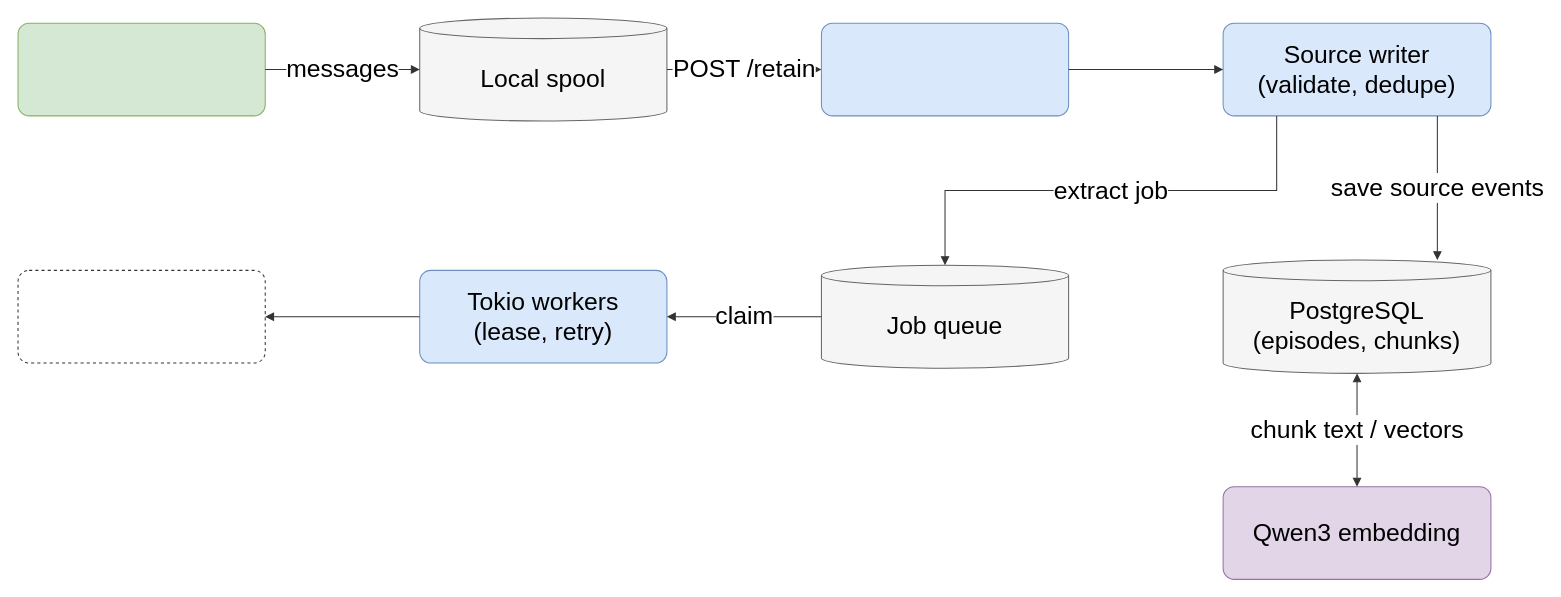
Some shapes in this 1561 by 597 pixel diagram are drawn without their labels. Here are the shapes that lost their labels. From the top down, the centre of each, then its label:
At [141,69]: "Source collector (Pi agent)".
At [944,69]: "Retain API".
At [141,316]: "Module 2".
